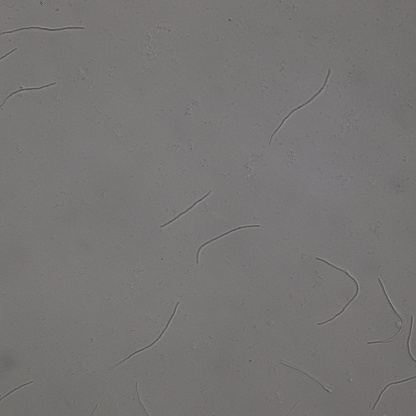Sensitive: (269, 69, 331, 146), (112, 302, 178, 367), (316, 256, 360, 326), (367, 274, 403, 348), (195, 224, 260, 264), (160, 190, 211, 227), (1, 81, 58, 112), (281, 363, 332, 394), (373, 374, 416, 408), (1, 22, 87, 37), (406, 312, 416, 362)
